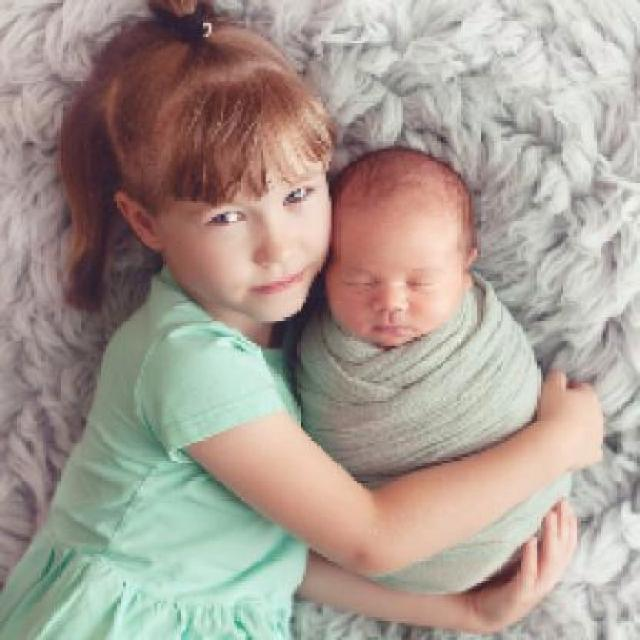child: (290, 146, 573, 594)
